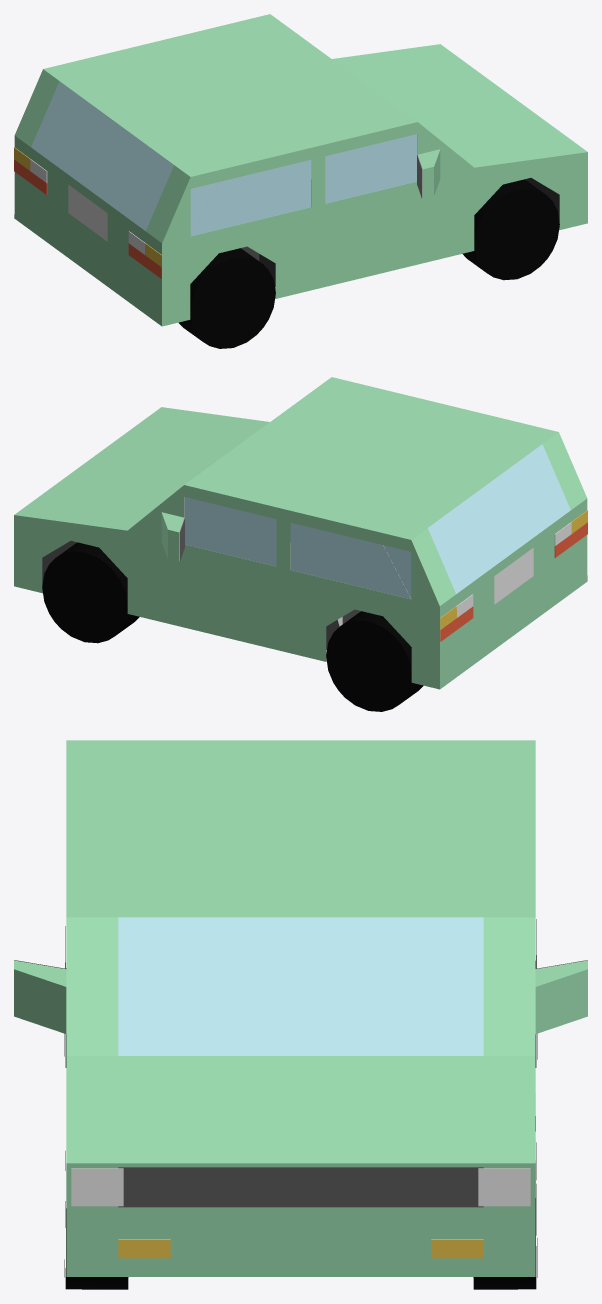
The model's file is car_hatch_new_combined.fbx.
3 views of the same model, one above another, from view 1: azimuth 30°, elevation 25°; view 2: azimuth 150°, elevation 25°; view 3: azimuth 270°, elevation 25° (orthographic). The views are drawn at different scales.
Parts seen in each view (by area): view 1: SmoothBlockModel3; view 2: SmoothBlockModel3; view 3: SmoothBlockModel3.
Boxes of the visible parts, bbox=[...] form: SmoothBlockModel3: bbox=[14, 14, 587, 348]; SmoothBlockModel3: bbox=[14, 377, 587, 711]; SmoothBlockModel3: bbox=[14, 740, 587, 1289].
Bounding box in the file's own units: 483 × 197 × 353.
